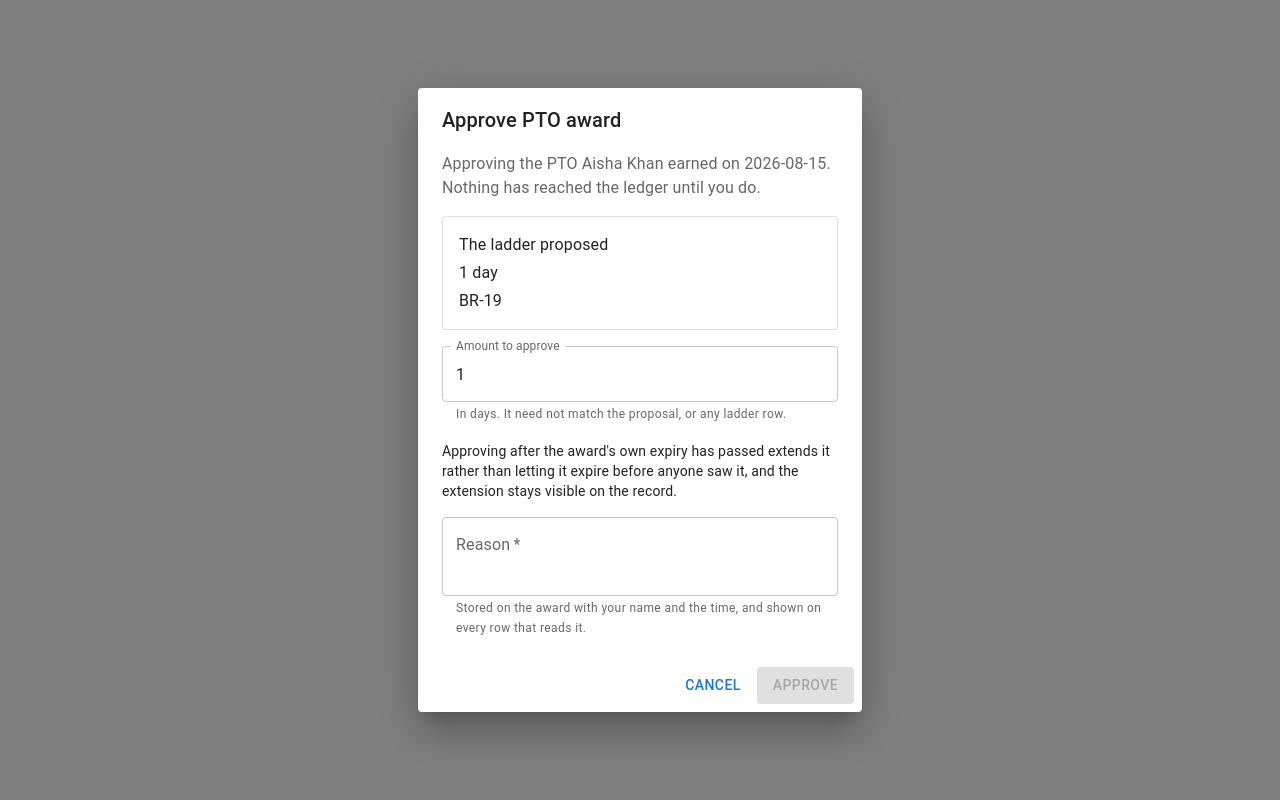
ApproveDialog › will not submit without a reason (FR-9.4)
Check: the button "Approve" is disabled, box [757, 667, 854, 704]
Type "Confirmed" into the text box labelled "Reason *".
click(640, 557); type("Confirmed")  # box [456, 534, 824, 580]
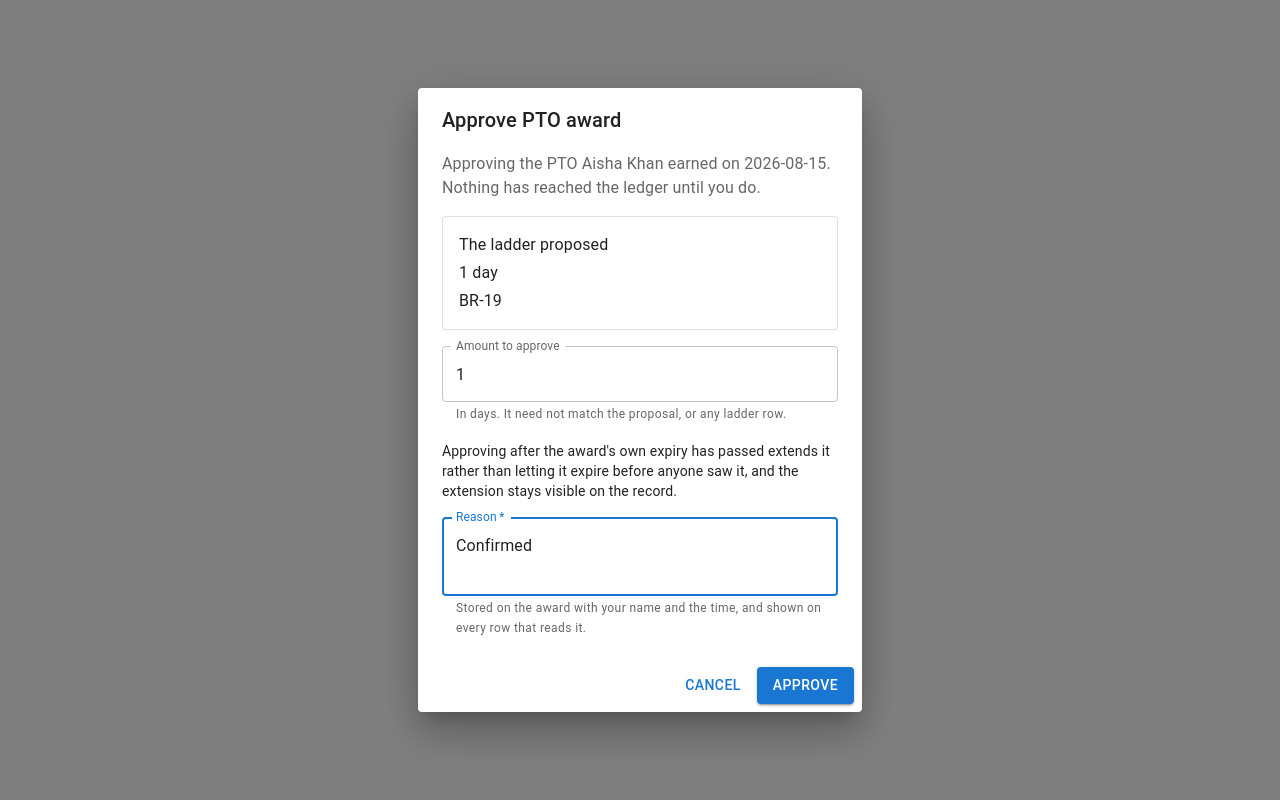
Check: the button "Approve" is enabled, box [757, 667, 854, 704]
